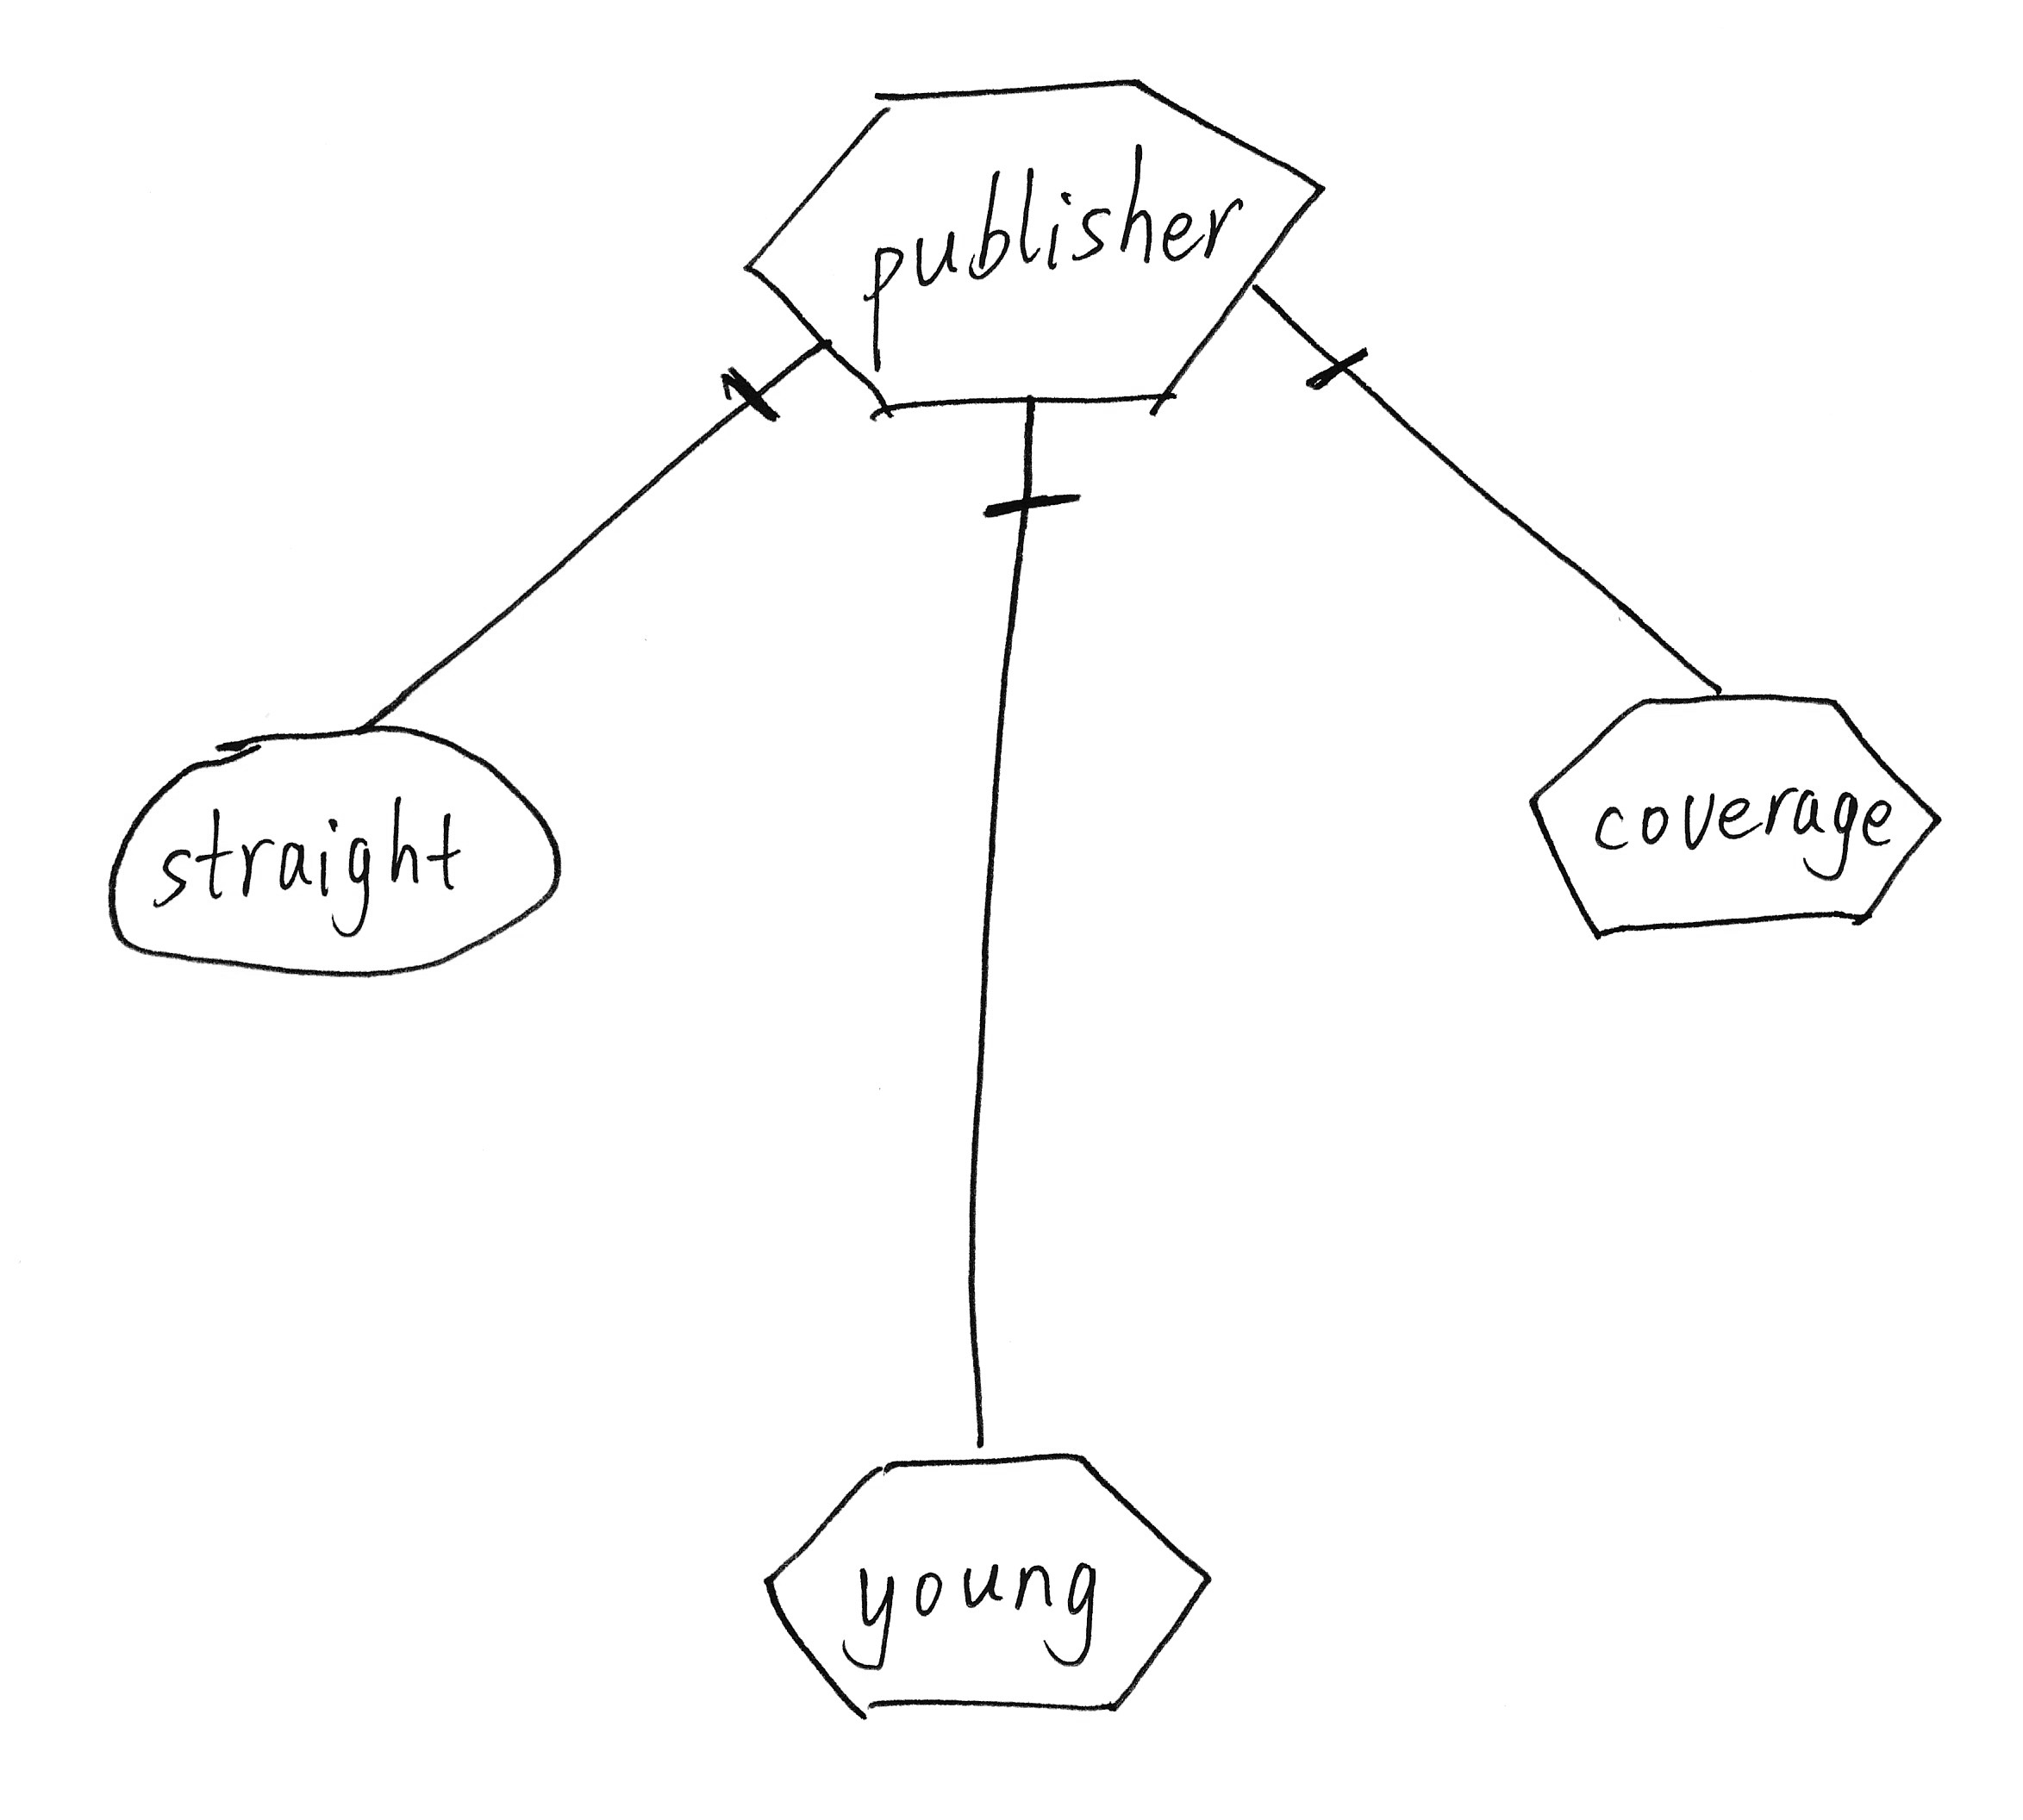and: (1237, 267, 1390, 409), (972, 381, 1093, 538), (710, 323, 847, 443)
goal: (90, 703, 578, 993)
task: (729, 54, 1345, 436), (743, 1430, 1230, 1737), (1517, 682, 1956, 947)
